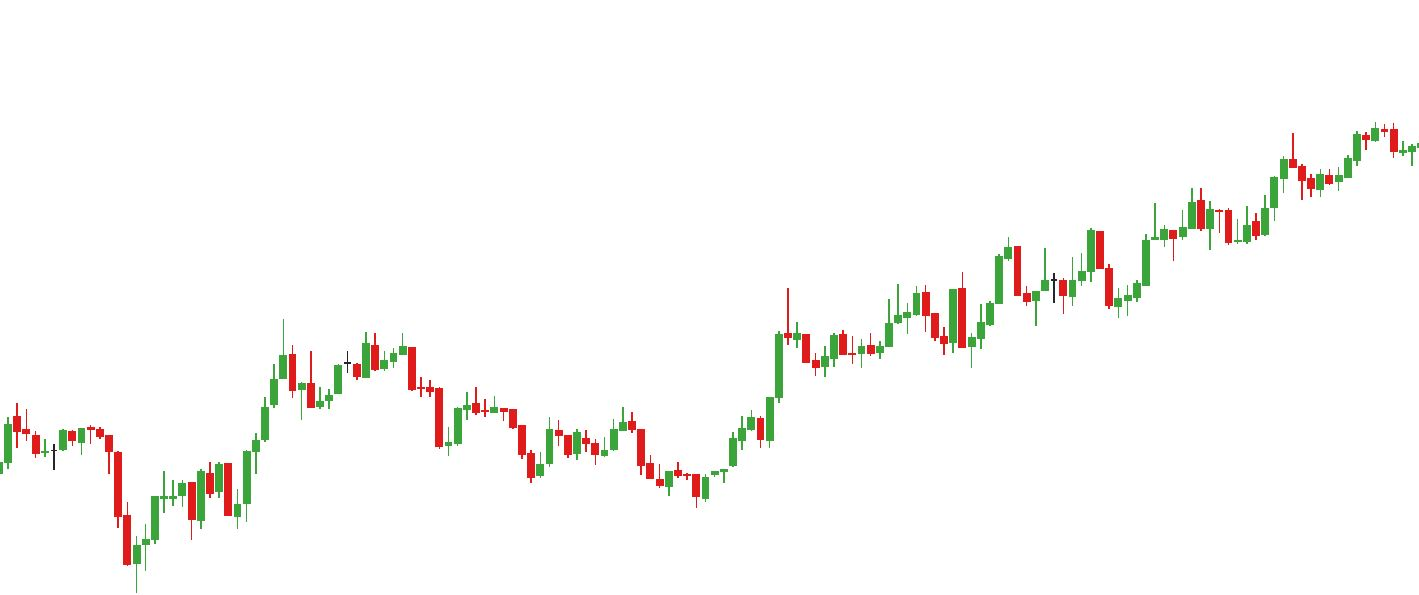buy: (1066, 243, 1133, 328)
